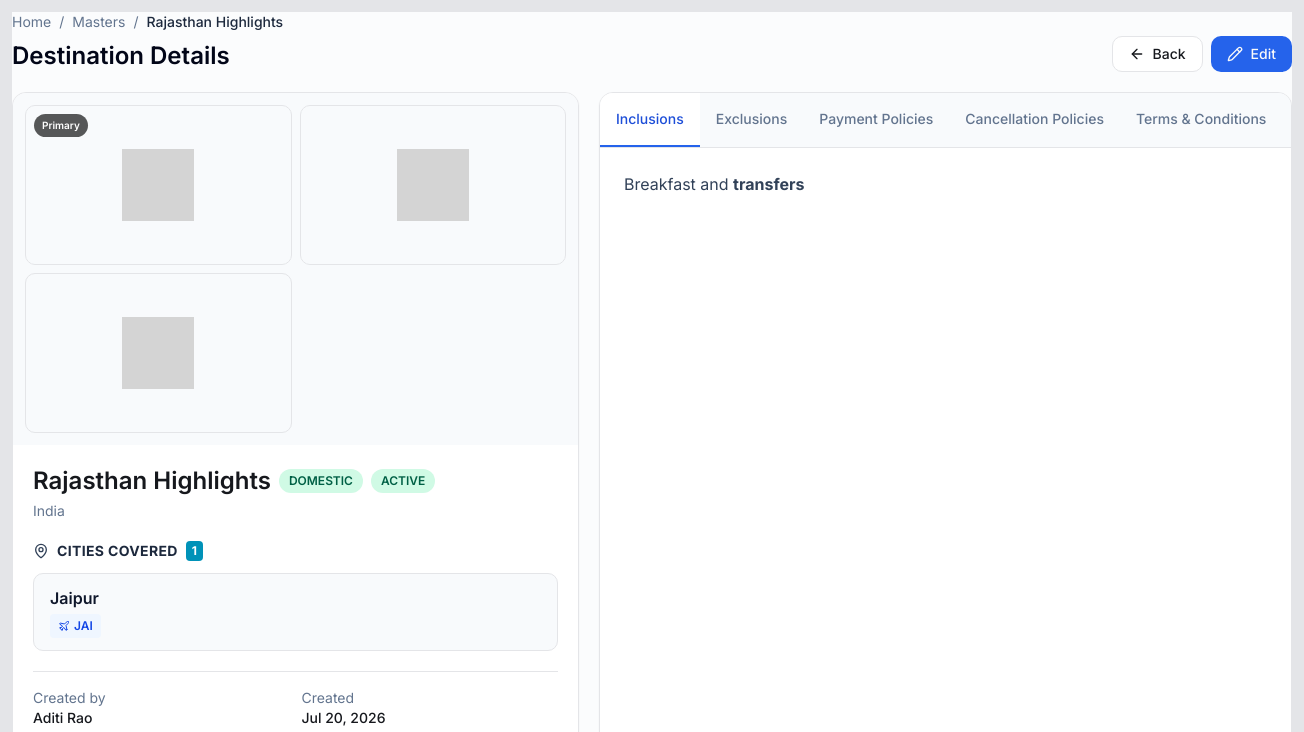
Test case: Phase 13A master pages › hydrates destination images immediately when navigating from View to Edit
The width and height of the screenshot is (1304, 732).
Click the link "Edit" at [1251, 54], box [1211,36,1292,72]
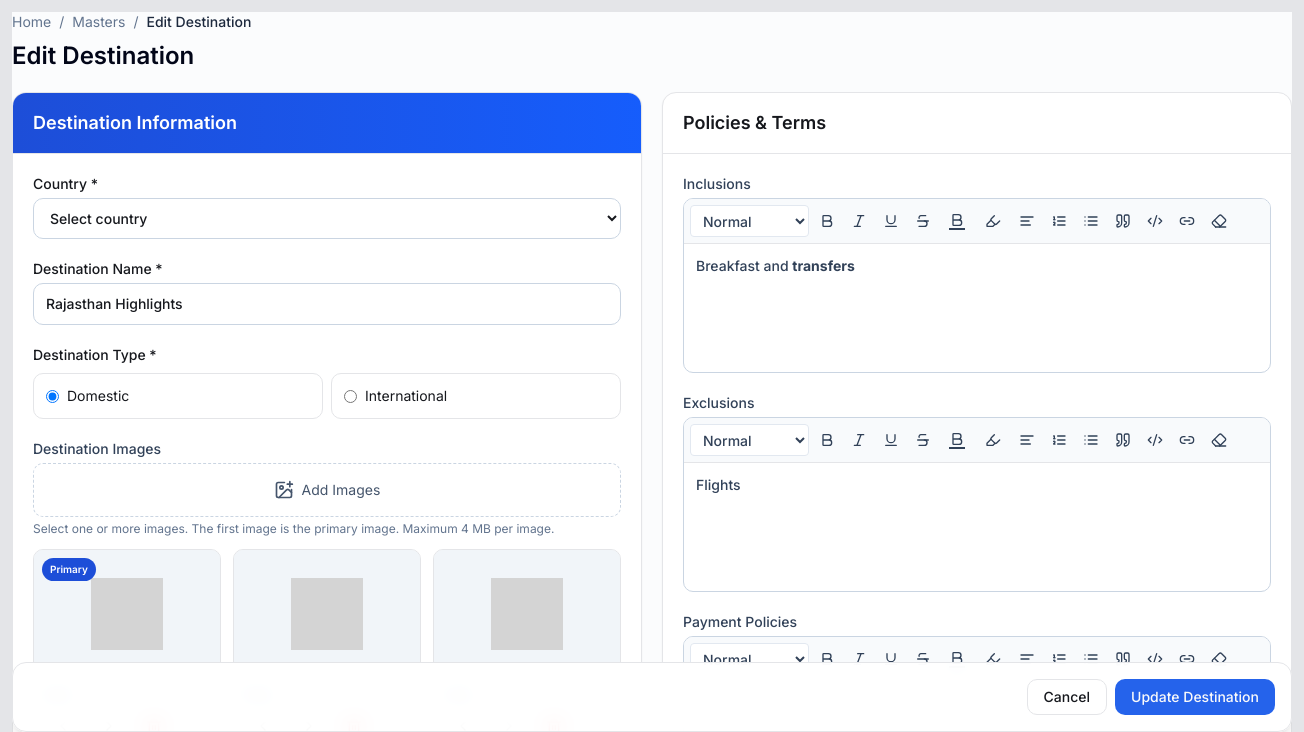
expect the heading "Edit Destination" is shown: met, box [12,41,194,70]
